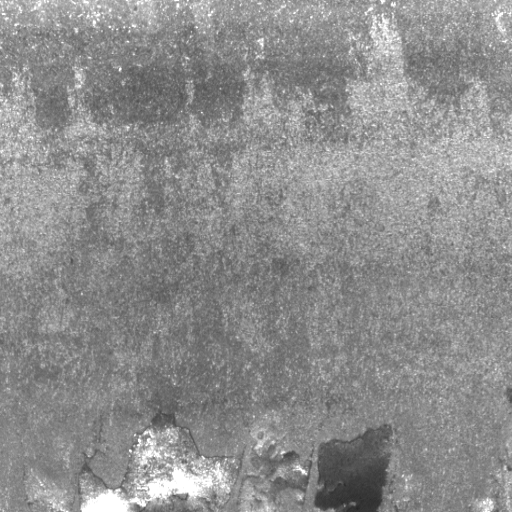aokeng: (314, 422, 394, 512)
qiaopi: (75, 409, 244, 512)
